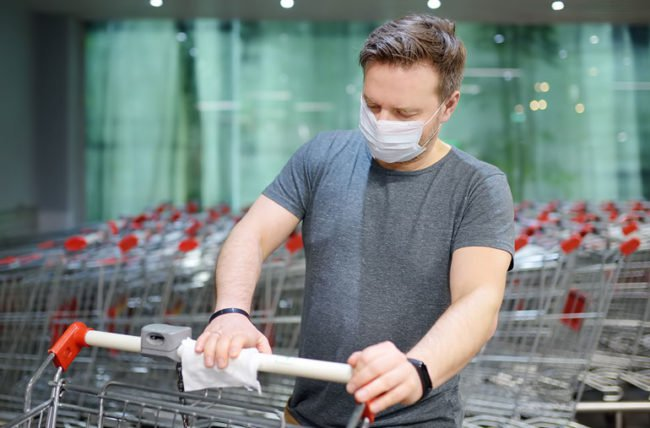mask: (335, 18, 468, 174)
